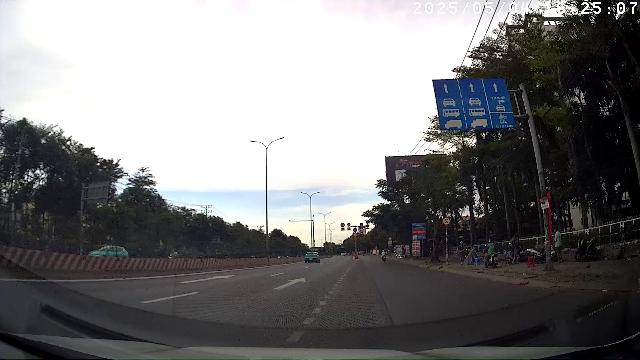127-toc-do-toi-da-50: (442, 216, 451, 225)
